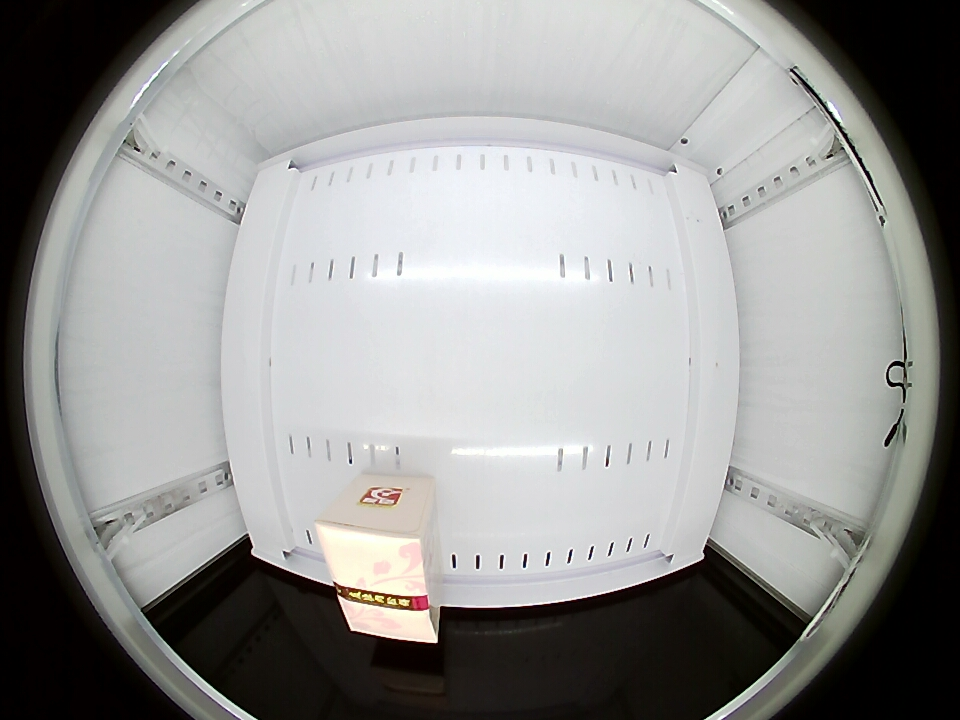rousongbing: (316, 488, 437, 645)
